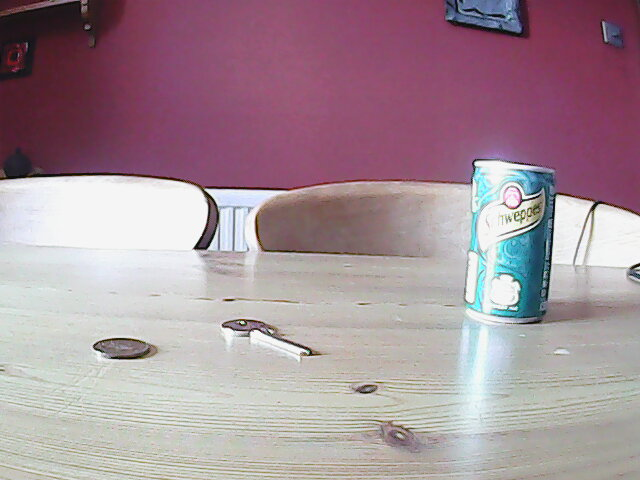Can: (460, 155, 553, 326)
Coin: (89, 336, 155, 362)
Key: (213, 317, 318, 359)
